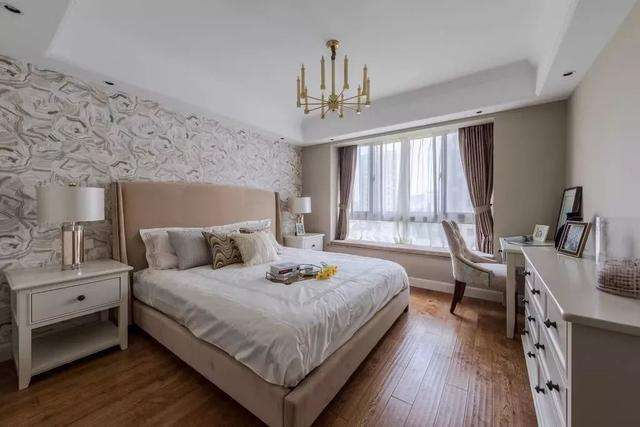床: (131, 253, 411, 411)
枕头: (131, 219, 291, 272)
灯: (294, 41, 375, 126), (39, 173, 103, 275), (284, 191, 310, 237), (556, 71, 573, 81)
